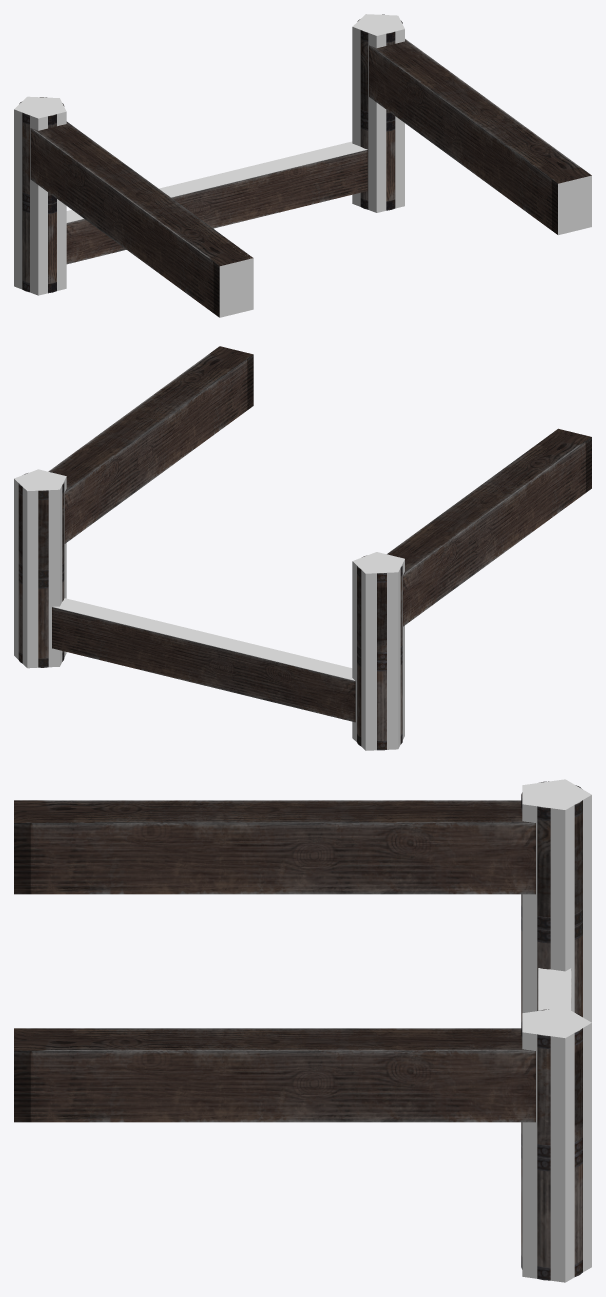
Rendered from JD_Bridge_A_Base_2x2x1_01.fbx.
3 views of the same model, one above another, from view 1: azimuth 30°, elevation 25°; view 2: azimuth 150°, elevation 25°; view 3: azimuth 270°, elevation 25° (orthographic). The views are drawn at different scales.
Visible parts, largest first — view 1: JD_Bridge_A_Base_2x2x1_01, C_JD_Bridge_A_Base_2x2x1_01; view 2: JD_Bridge_A_Base_2x2x1_01, C_JD_Bridge_A_Base_2x2x1_01; view 3: JD_Bridge_A_Base_2x2x1_01, C_JD_Bridge_A_Base_2x2x1_01.
Part boxes in pixels (x1,y1,x2,y2): JD_Bridge_A_Base_2x2x1_01: (19,14,591,317); C_JD_Bridge_A_Base_2x2x1_01: (14,14,591,317); JD_Bridge_A_Base_2x2x1_01: (18,346,591,750); C_JD_Bridge_A_Base_2x2x1_01: (14,469,404,750); JD_Bridge_A_Base_2x2x1_01: (14,781,582,1280); C_JD_Bridge_A_Base_2x2x1_01: (522,779,591,1282).
Size of the model in its own units: 4.54 by 2 by 4.29.
